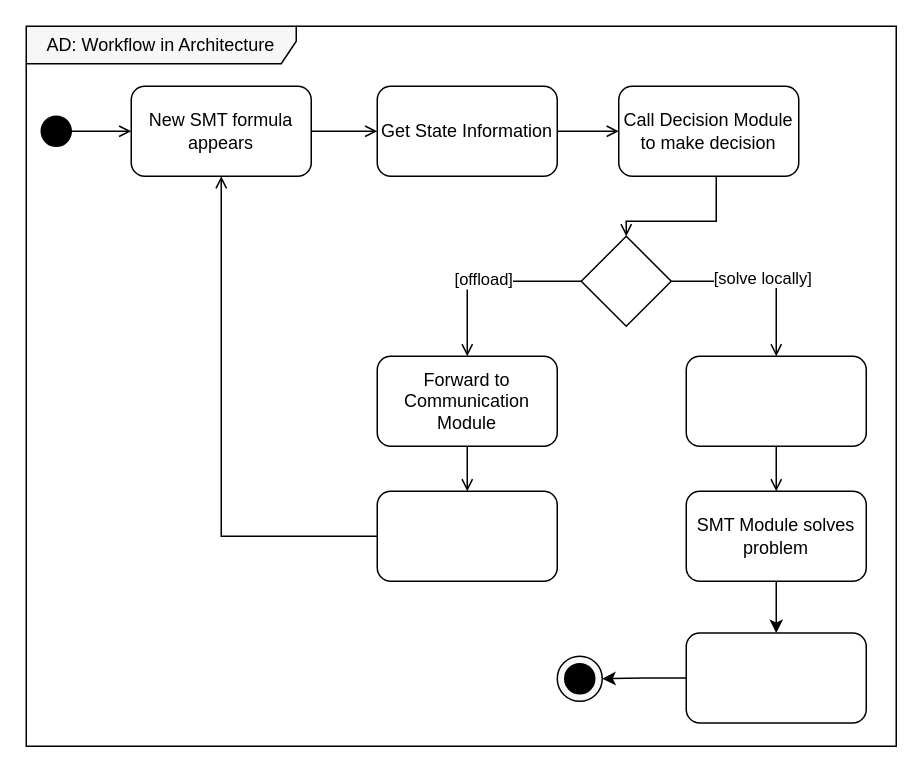
The diagram is 923 pixels wide and 773 high, and some of its shapes have lost their labels. The shapes that lost their labels are listed below. From the top down, each one's centre as x and y in pixels, then its label:
At (x=775, y=400): "Forward to SMT Module".
At (x=466, y=535): "Offload SMT formulae".
At (x=775, y=677): "Return result recursively".
